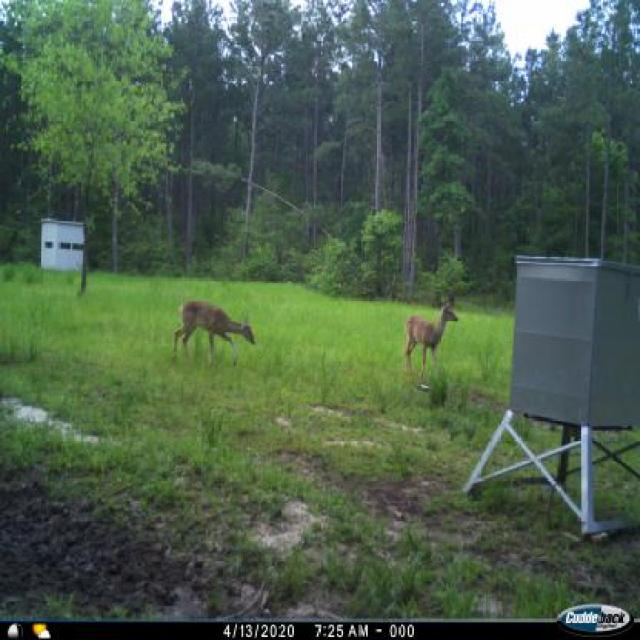Deer: (165, 296, 262, 375), (398, 300, 460, 385)
